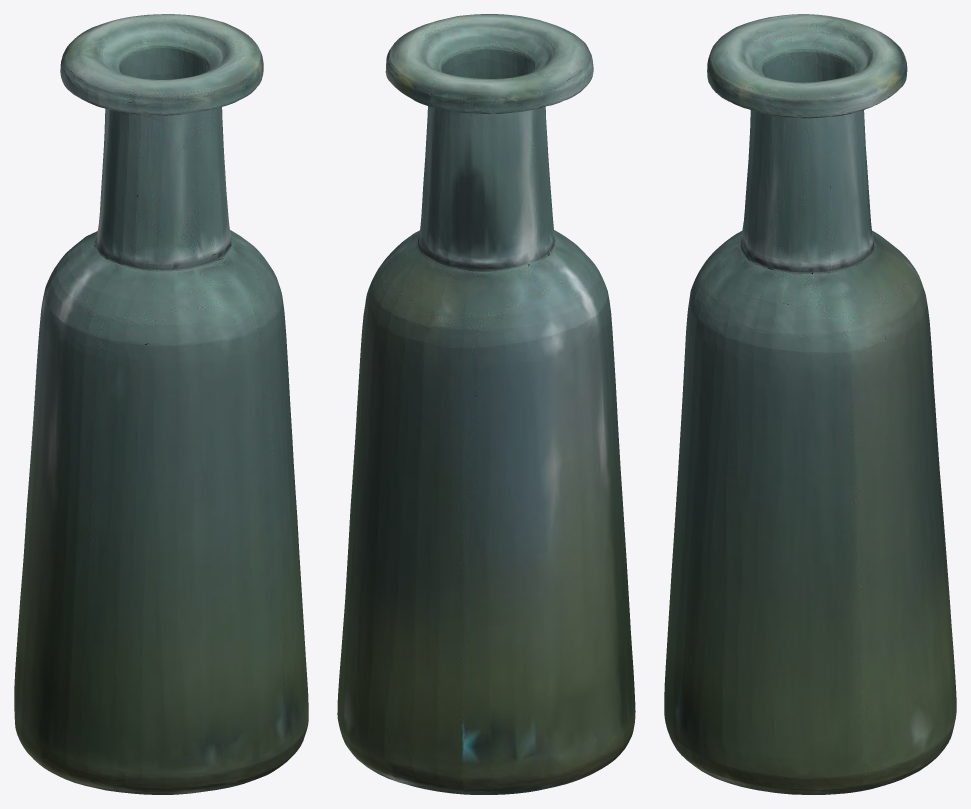
File: blue_glass_vase_on_console_table_000.glb
3 renders of one model, left to right at view 1: azimuth 30°, elevation 25°; view 2: azimuth 150°, elevation 25°; view 3: azimuth 270°, elevation 25°, orthographic.
Visible parts, largest first — view 1: phase2_final_blue_glass_vase_on_console_table_000.obj; view 2: phase2_final_blue_glass_vase_on_console_table_000.obj; view 3: phase2_final_blue_glass_vase_on_console_table_000.obj.
Boxes of the visible parts, bbox=[...] form: phase2_final_blue_glass_vase_on_console_table_000.obj: bbox=[14, 14, 308, 794]; phase2_final_blue_glass_vase_on_console_table_000.obj: bbox=[337, 14, 635, 794]; phase2_final_blue_glass_vase_on_console_table_000.obj: bbox=[664, 14, 956, 794].
Bounding box in the file's own units: 0.0647 × 0.1676 × 0.0643.
1 material, 1 textured.
